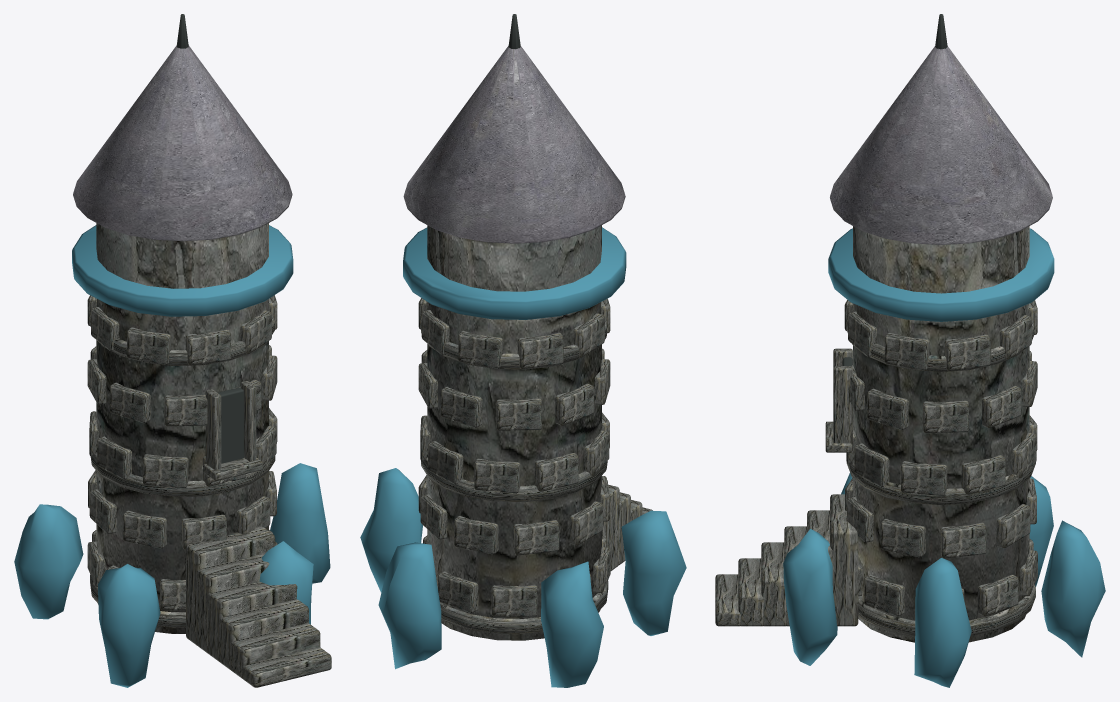
Rendered from env-site-mageTower.glb.
The picture shows the model from 3 angles, left to right: view 1: azimuth 30°, elevation 25°; view 2: azimuth 150°, elevation 25°; view 3: azimuth 270°, elevation 25°; orthographic projection.
Visible parts, largest first — view 1: site mageTower · authored textured miniature; view 2: site mageTower · authored textured miniature; view 3: site mageTower · authored textured miniature.
Boxes of the visible parts, x1,y1,x2,y2 form: site mageTower · authored textured miniature: (14,14,331,687); site mageTower · authored textured miniature: (360,14,686,687); site mageTower · authored textured miniature: (715,14,1105,687).
Size of the model in its own units: 0.907 by 1.98 by 1.11.
4 materials, 2 textured.
